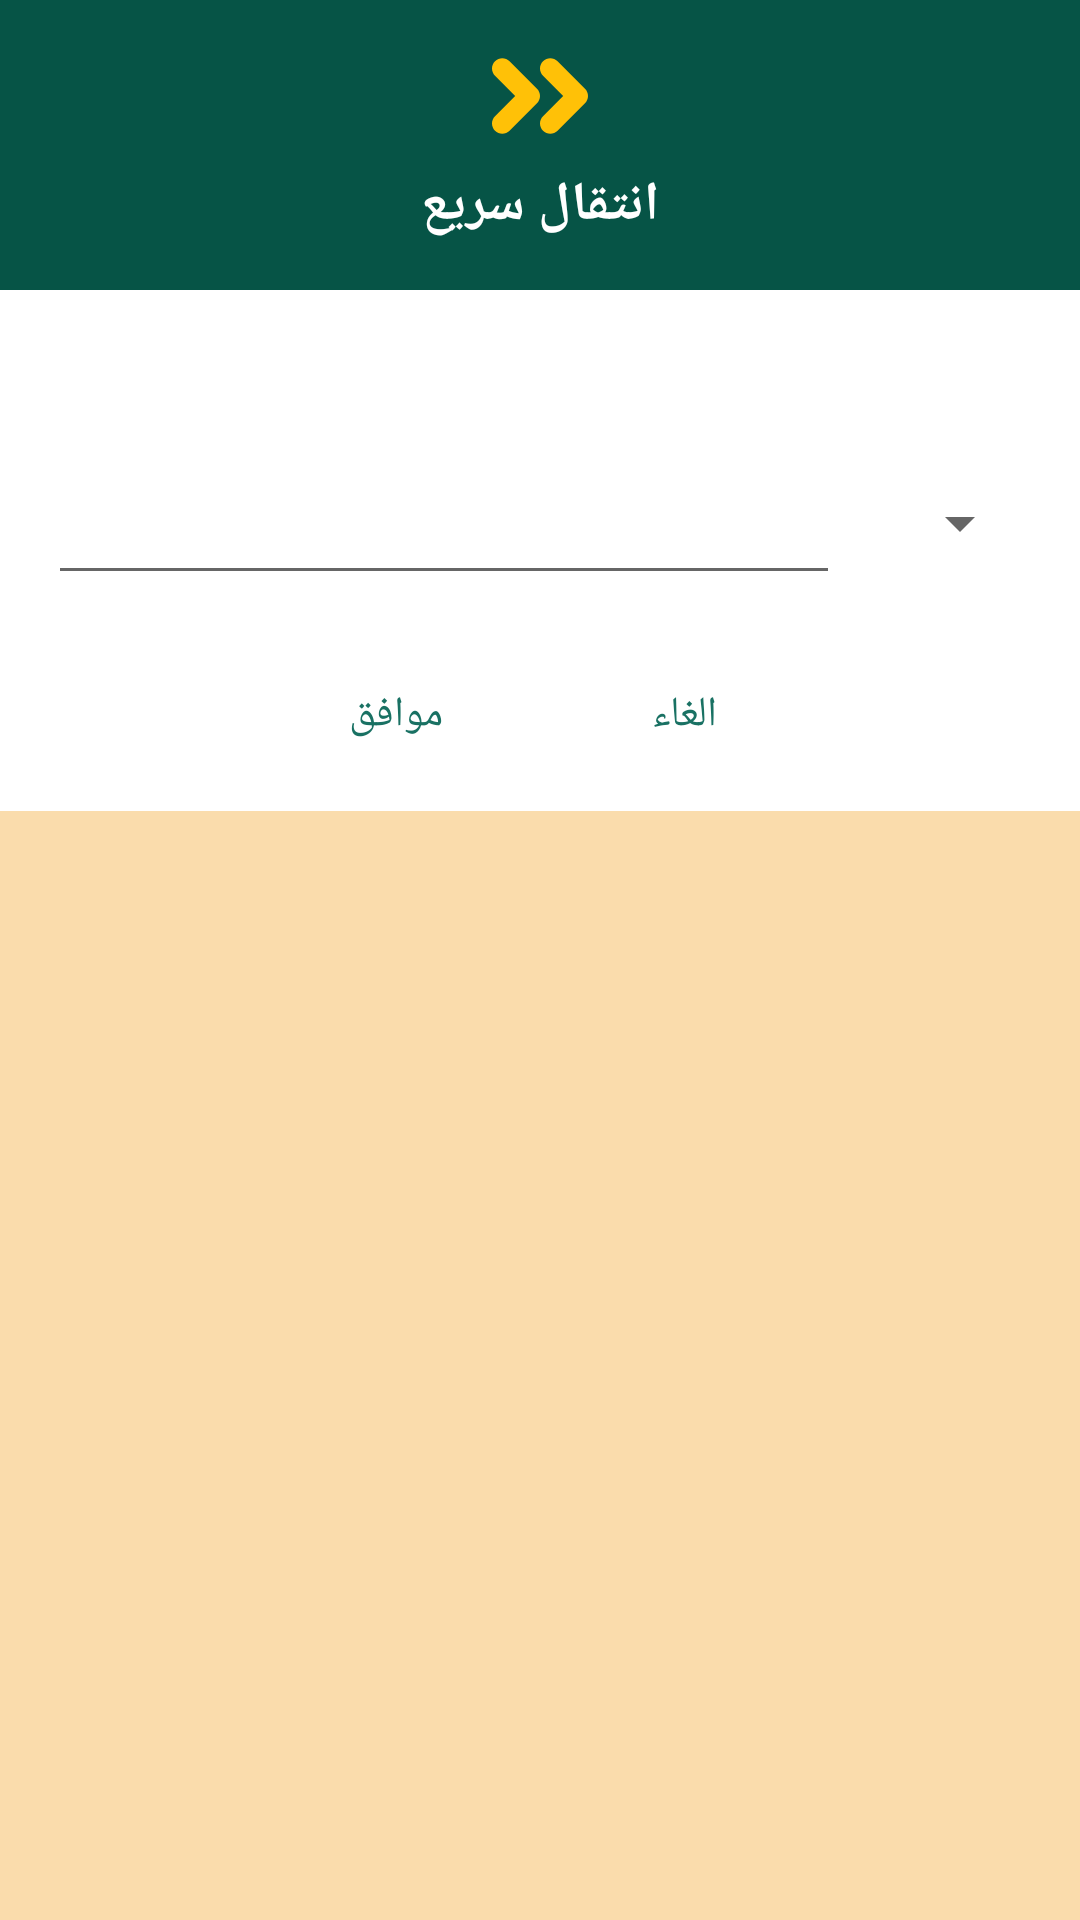

Screen size 1080px×1920px. Icon name, then its box in pixels as bbox=[x1, y1, x2, y2]:
fast forward: bbox=[492, 58, 588, 134]
